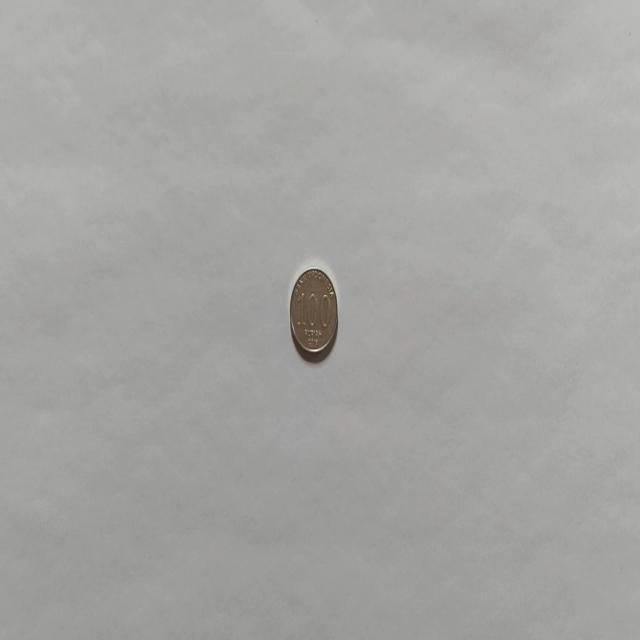seratus rupiah: (288, 266, 338, 360)
